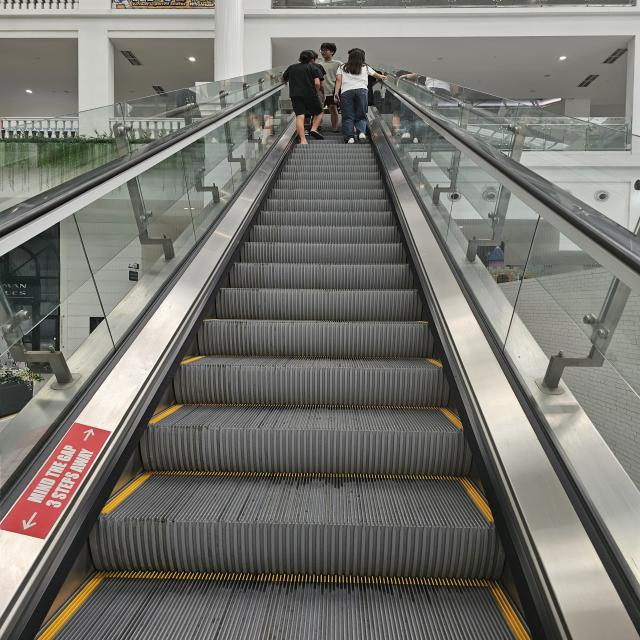escalator: (34, 156, 605, 638)
person: (333, 48, 388, 144), (281, 50, 326, 144), (314, 42, 344, 133)
